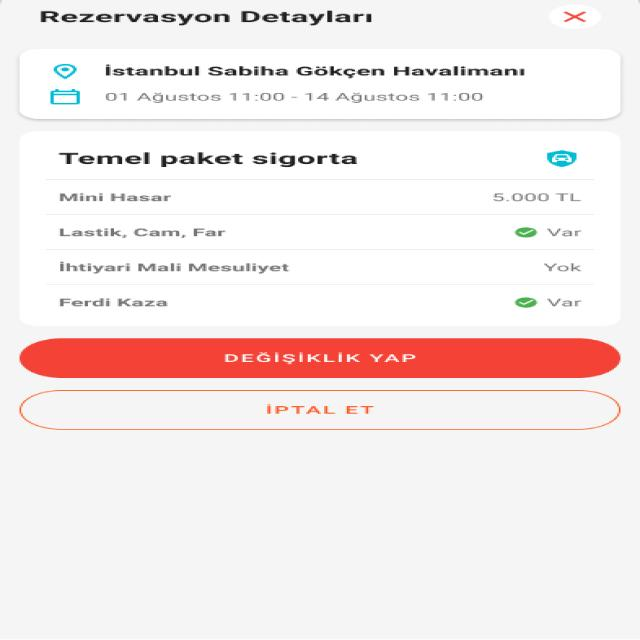QLabel: (95, 63, 532, 80), (32, 10, 377, 26), (96, 90, 488, 104), (53, 151, 356, 168), (51, 262, 292, 274), (220, 352, 419, 363), (52, 227, 228, 238), (260, 404, 386, 418), (51, 192, 176, 202), (55, 298, 172, 308), (489, 192, 584, 202), (542, 263, 582, 272), (544, 228, 582, 237), (544, 298, 582, 307)
VBtn: (19, 389, 622, 431), (19, 339, 622, 379)
VCard: (14, 129, 626, 323), (16, 49, 624, 120)
VDivider: (39, 246, 610, 254), (37, 212, 610, 219), (34, 178, 614, 184), (37, 282, 608, 288)
VIcon: (546, 4, 601, 29), (45, 88, 83, 106), (545, 150, 578, 168), (52, 64, 77, 80), (514, 227, 537, 238), (514, 297, 537, 308)
